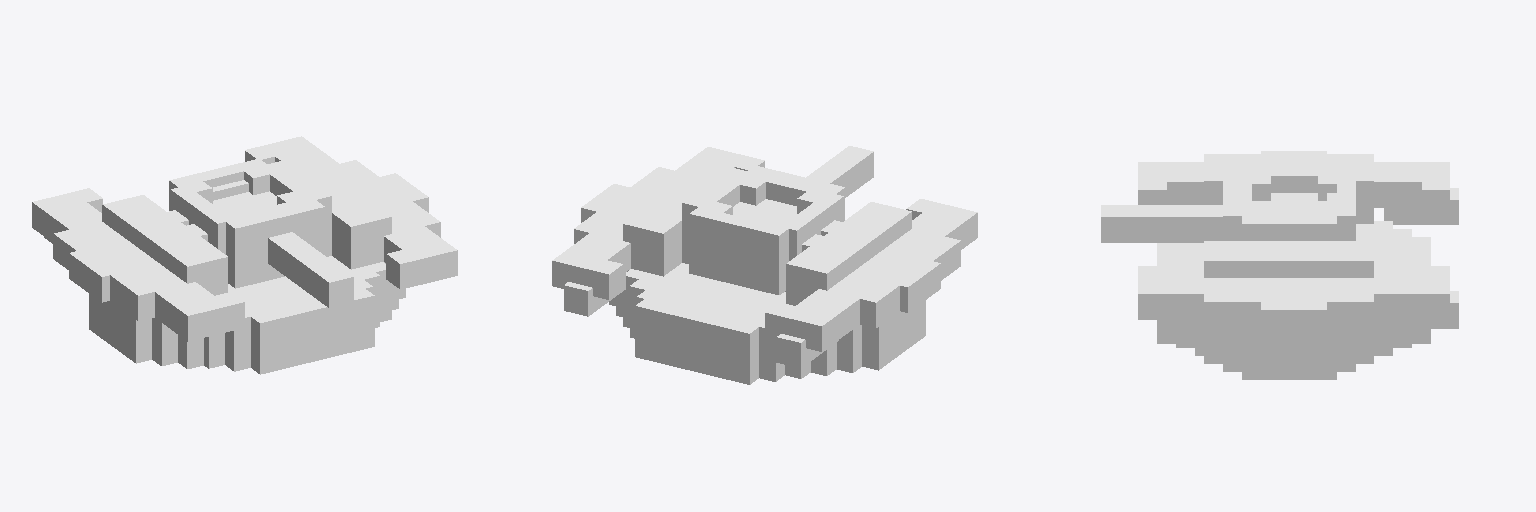
The model's file is own_02_02.obj.
The picture shows the model from 3 angles: view 1: azimuth 30°, elevation 25°; view 2: azimuth 150°, elevation 25°; view 3: azimuth 270°, elevation 25°; orthographic projection.
Size of the model in its own units: 40 by 14 by 38.